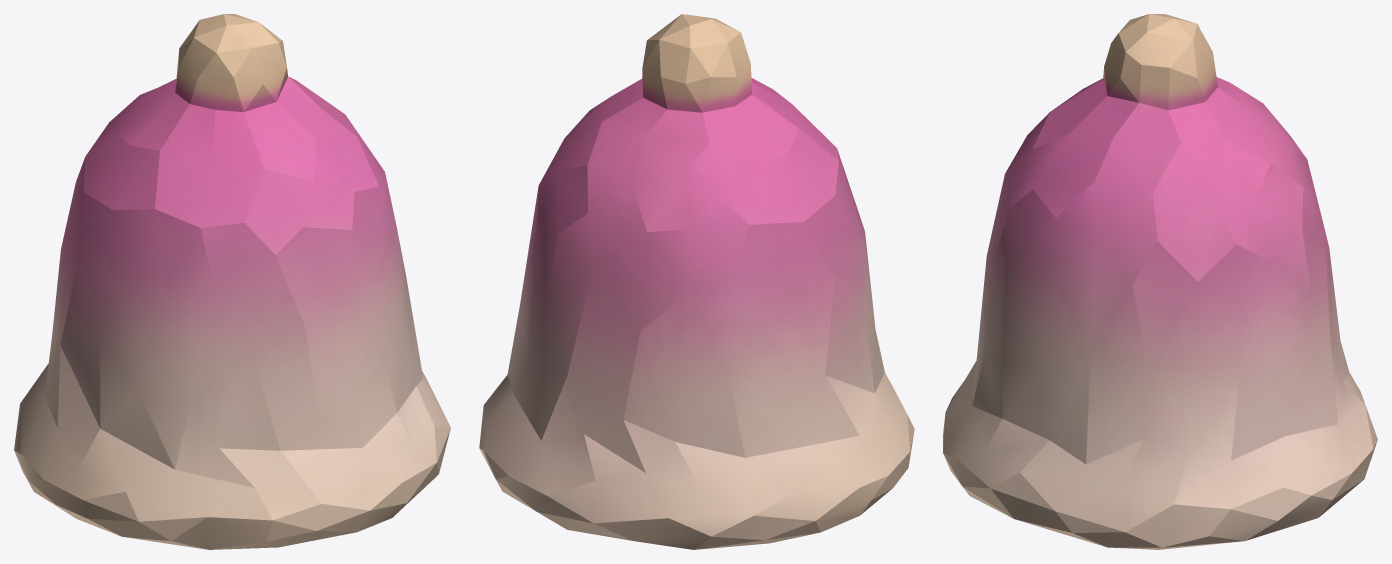
The picture shows the model from 3 angles, left to right: view 1: azimuth 30°, elevation 25°; view 2: azimuth 150°, elevation 25°; view 3: azimuth 270°, elevation 25°; orthographic projection.
Visible parts, largest first — view 1: model; view 2: model; view 3: model.
Part boxes in pixels (x1,y1,x2,y2): model: (14, 14, 450, 549); model: (479, 14, 914, 549); model: (943, 14, 1377, 549).
Bounding box in the file's own units: 157 × 188 × 157.
Materials: 1 (1 with a texture image).
